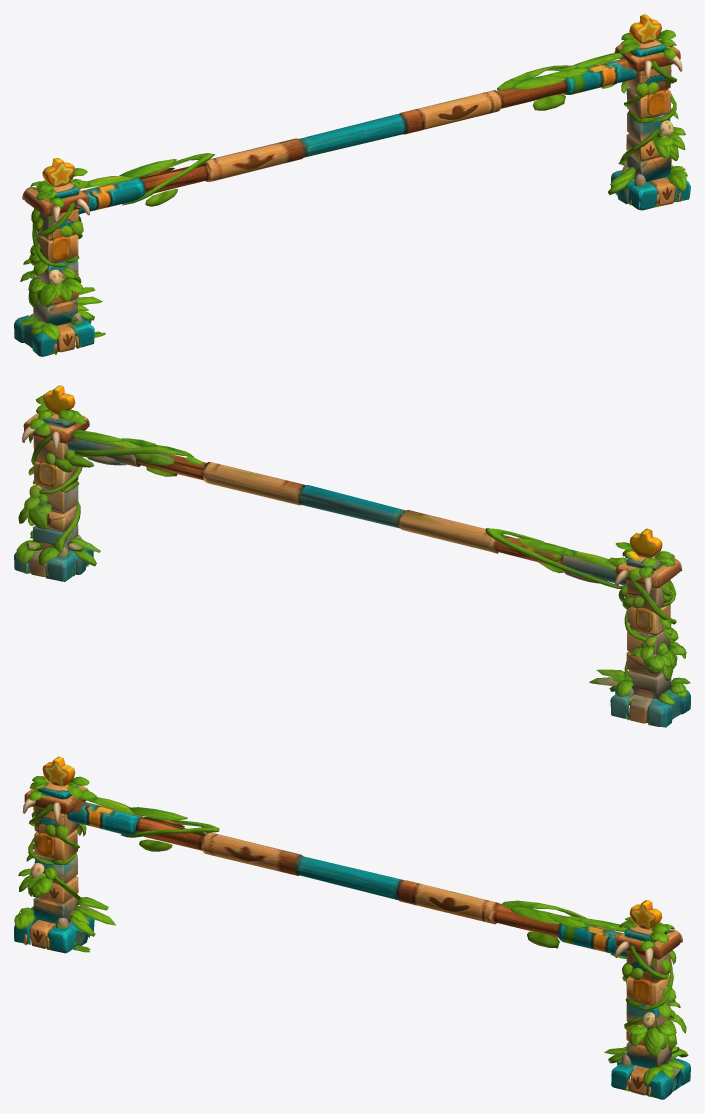
File: gate_wide.glb
The picture shows the model from 3 angles, top to bottom: view 1: azimuth 30°, elevation 25°; view 2: azimuth 150°, elevation 25°; view 3: azimuth 330°, elevation 25°; orthographic projection.
Visible parts, largest first — view 1: gate_wide; view 2: gate_wide; view 3: gate_wide.
Boxes of the visible parts, x1=… form: gate_wide: x1=14, y1=14, x2=690, y2=356; gate_wide: x1=14, y1=385, x2=690, y2=727; gate_wide: x1=14, y1=756, x2=690, y2=1099.
Size of the model in its own units: 18.92 by 5 by 1.96.
1 material, 1 textured.
